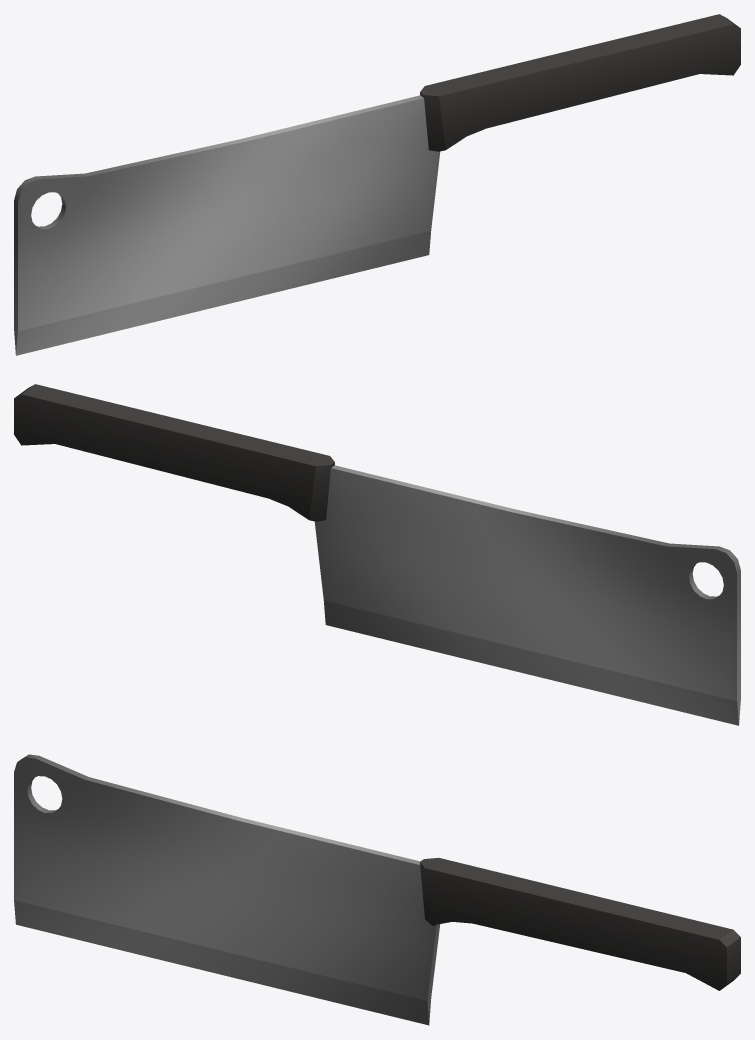
The model's file is Butcher Knife.fbx.
3 views of the same model, one above another, from view 1: azimuth 30°, elevation 25°; view 2: azimuth 150°, elevation 25°; view 3: azimuth 330°, elevation 25° (orthographic).
Visible parts, largest first — view 1: Butcher Knife; view 2: Butcher Knife; view 3: Butcher Knife.
Boxes of the visible parts, left/top/right/bottom form: Butcher Knife: left=14, top=14, right=740, bottom=355; Butcher Knife: left=14, top=384, right=740, bottom=725; Butcher Knife: left=14, top=754, right=740, bottom=1025.
Bounding box in the file's own units: 39.67 × 9.12 × 1.35.
